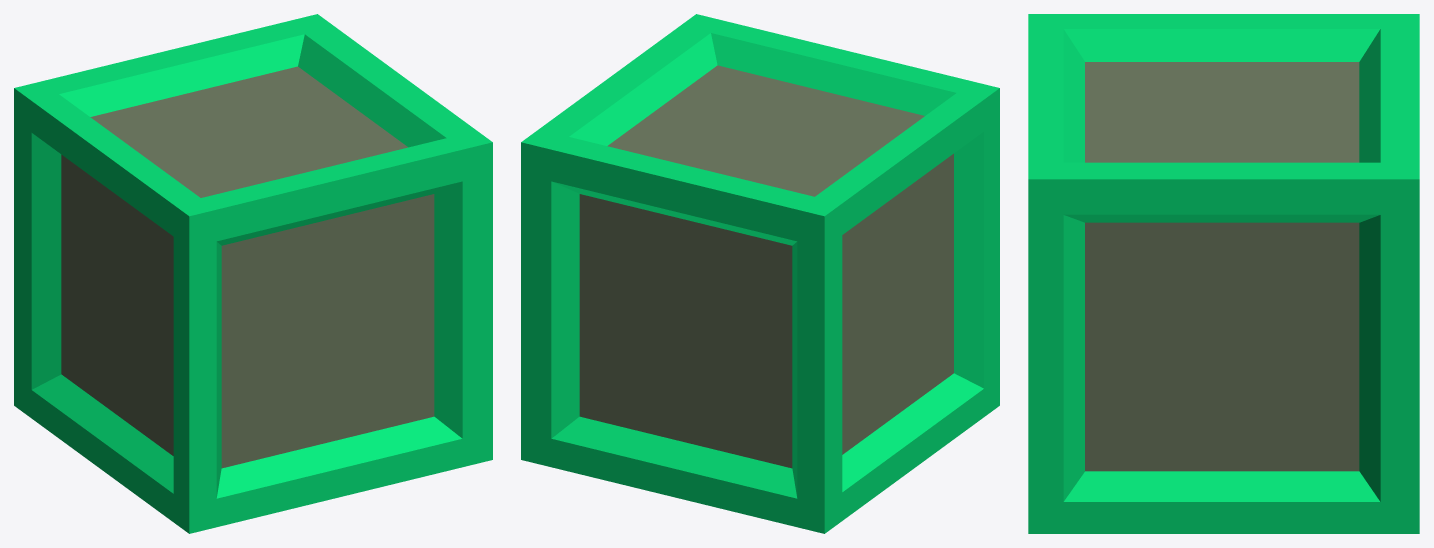
File: grass.fbx
3 renders of one model, left to right at view 1: azimuth 30°, elevation 25°; view 2: azimuth 150°, elevation 25°; view 3: azimuth 270°, elevation 25°, orthographic. The views are drawn at different scales.
Parts seen in each view (by area): view 1: grass1; view 2: grass1; view 3: grass1.
Boxes of the visible parts, <box> form: grass1: <box>14,14,492,533</box>; grass1: <box>521,14,999,533</box>; grass1: <box>1028,14,1419,533</box>.
Size of the model in its own units: 1.62 by 1.62 by 1.62.
